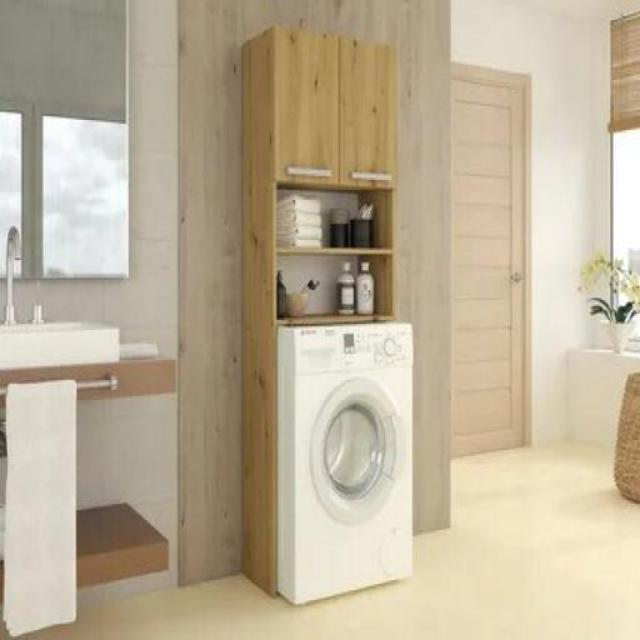Washing-Machine: (278, 326, 416, 600)
